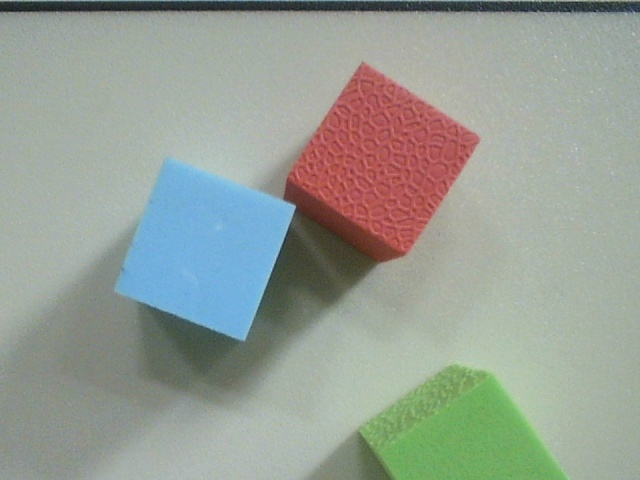greencube: (348, 357, 588, 480)
